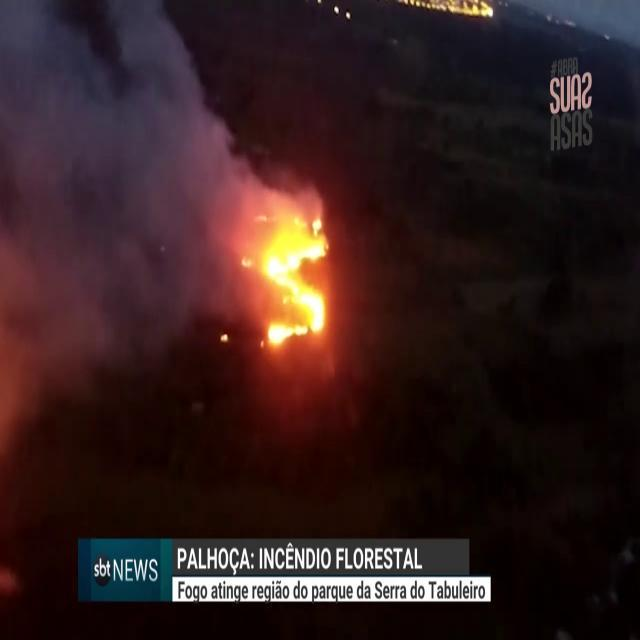Fire: (256, 224, 328, 340)
